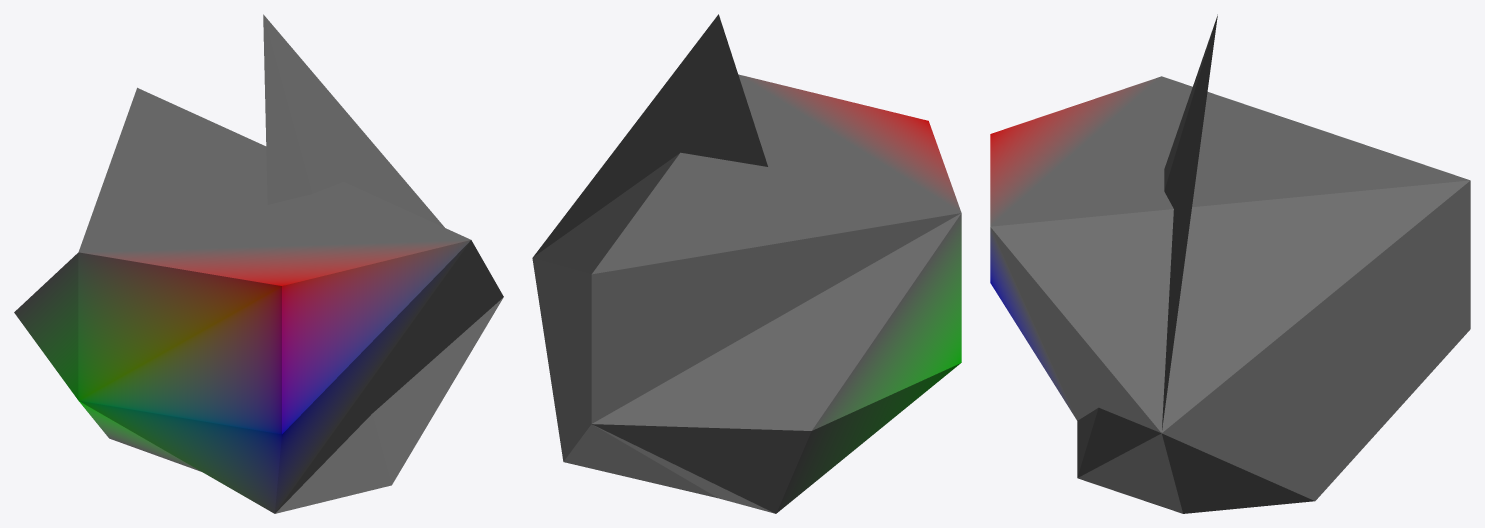
Rendered from gate_re_cleaning_conquest_22.obj.
3 views of the same model, side by side, from view 1: azimuth 30°, elevation 25°; view 2: azimuth 150°, elevation 25°; view 3: azimuth 270°, elevation 25° (orthographic).
Bounding box in the file's own units: 1.85 × 2 × 1.81.
